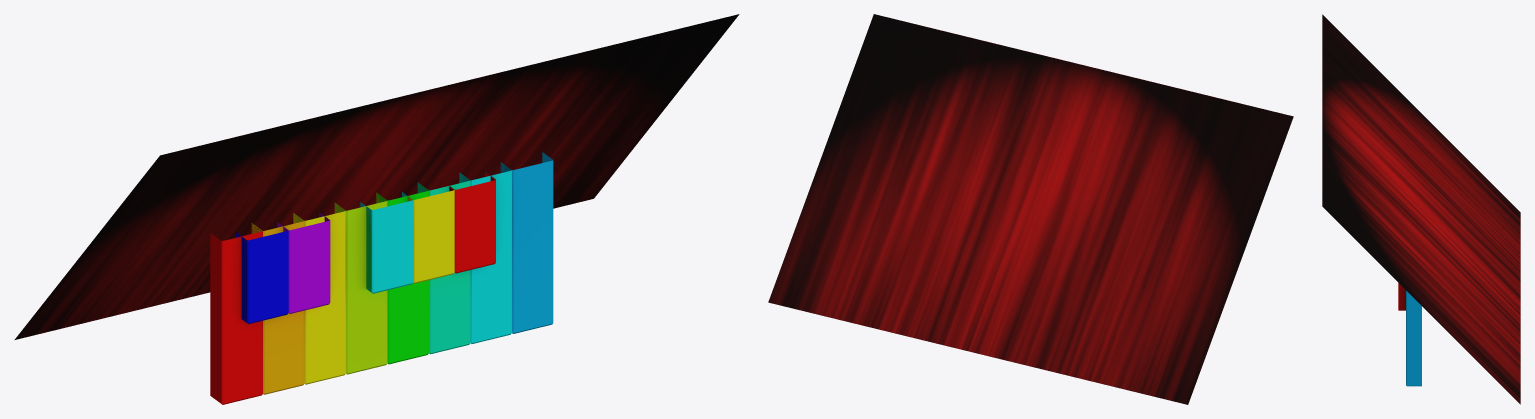
The model's file is piano.obj.
3 views of the same model, side by side, from view 1: azimuth 30°, elevation 25°; view 2: azimuth 150°, elevation 25°; view 3: azimuth 270°, elevation 25° (orthographic). The views are drawn at different scales.
Parts seen in each view (by area): view 1: curtain, 07_08, 00_01, 03_04, 06_07, 02_03, 10_11, 08_09, 09_10, 12_13, 11_12, 05_06 (+2 smaller); view 2: curtain; view 3: curtain, 07_08, 12_13.
Part boxes in pixels (box(x1,y1,x2,y2)): curtain: box(14, 14, 739, 339); 07_08: box(500, 152, 553, 333); 00_01: box(210, 223, 262, 404); 03_04: box(334, 193, 387, 374); 06_07: box(459, 163, 511, 343); 02_03: box(293, 203, 345, 384); 10_11: box(360, 192, 413, 293); 08_09: box(236, 229, 288, 323); 09_10: box(277, 212, 330, 313); 12_13: box(443, 172, 495, 273); 11_12: box(407, 190, 454, 283); 05_06: box(417, 172, 470, 354); curtain: box(768, 14, 1293, 404); curtain: box(1322, 14, 1520, 404); 07_08: box(1406, 290, 1421, 386); 12_13: box(1398, 283, 1405, 310).
Bounding box in the file's own units: 13.97 × 7.49 × 6.09.
